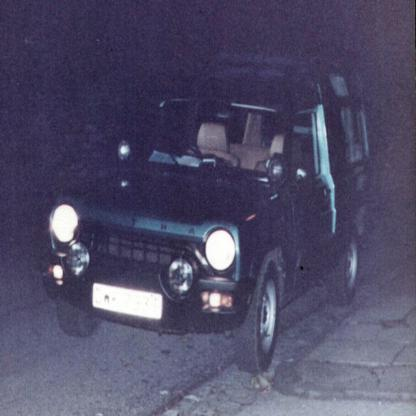car: (37, 58, 380, 368)
